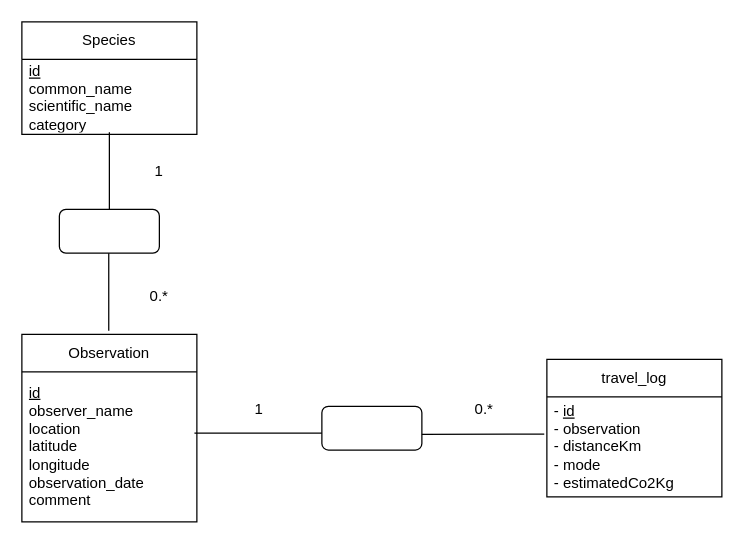
Image size: 744x544. Some labels were removed from this diagram. The centre of each missing label's shape, as x and y in pixels:
"concerns" belongs at pixel 108 230.
"recording" belongs at pixel 371 427.
